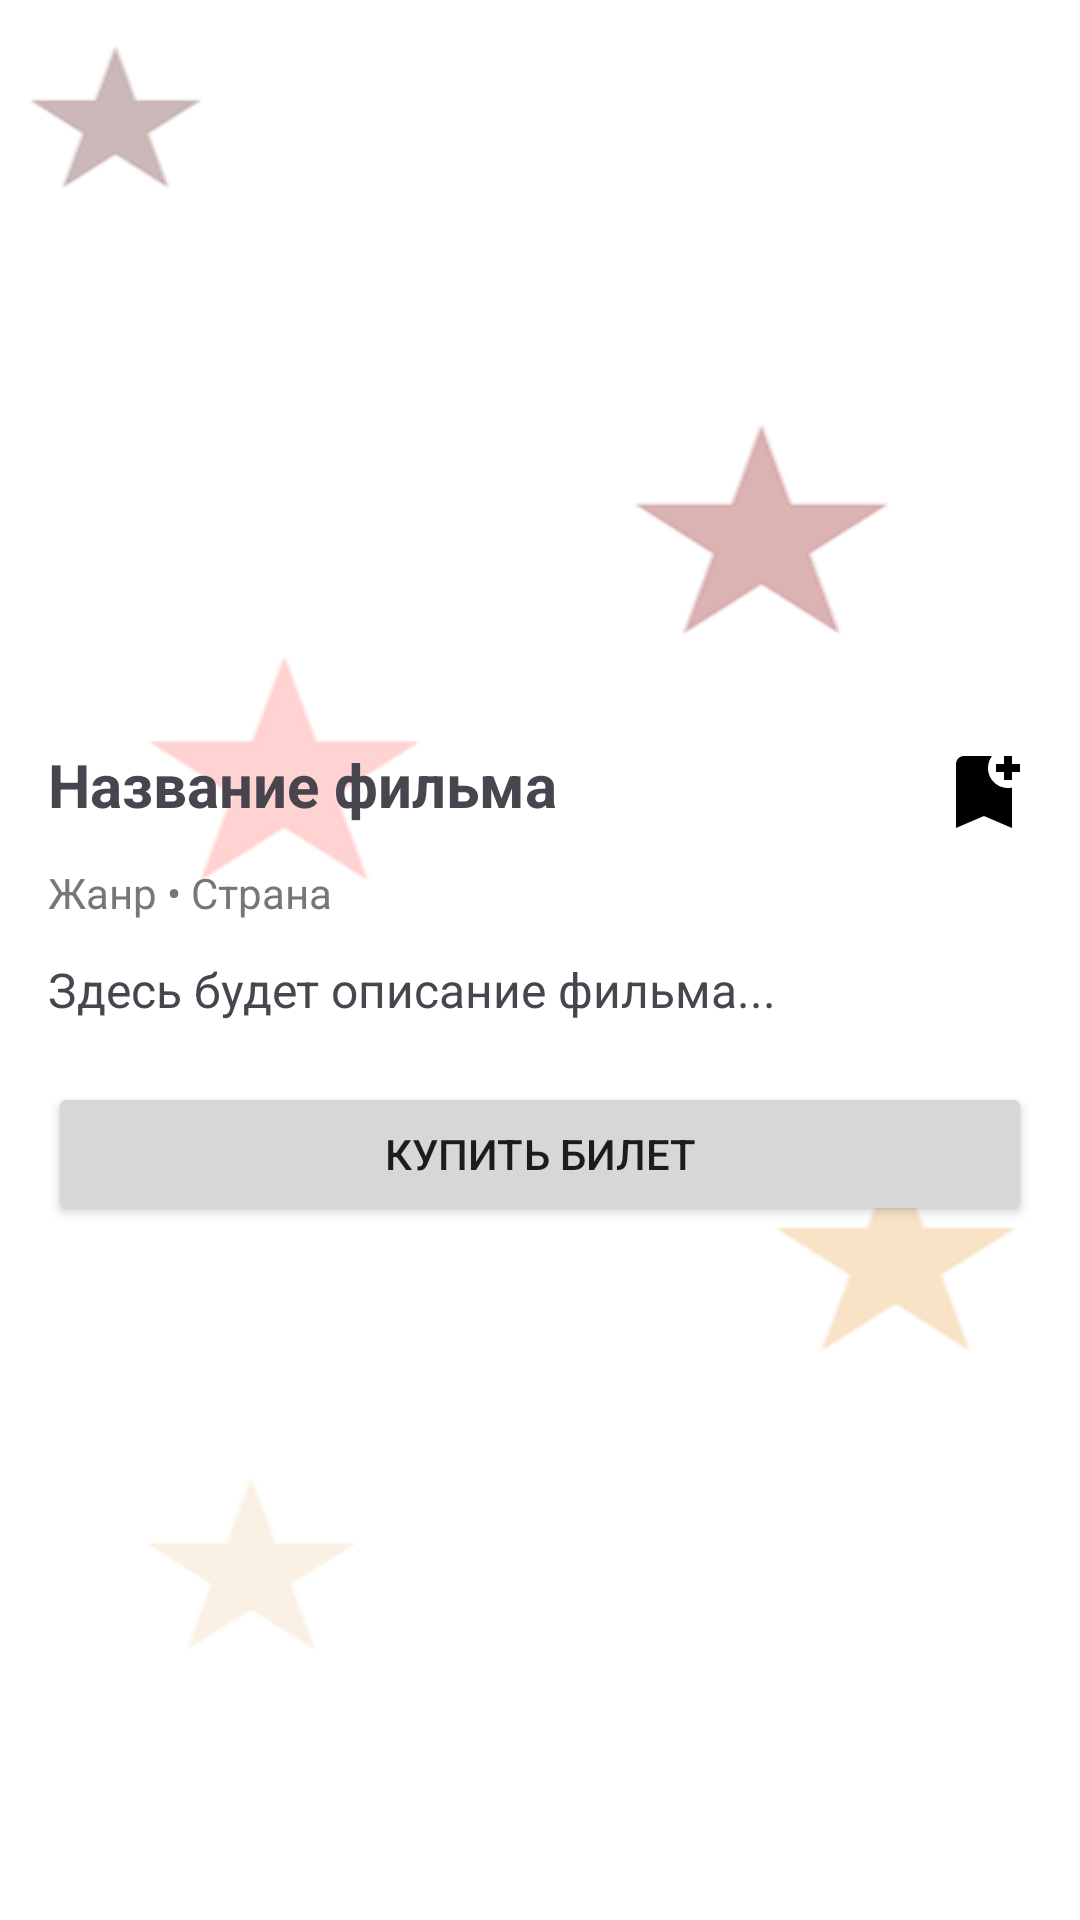

Icon click points for this 1080px×1920px phone screenshot, format (x,y):
Favorite: (988,792)
